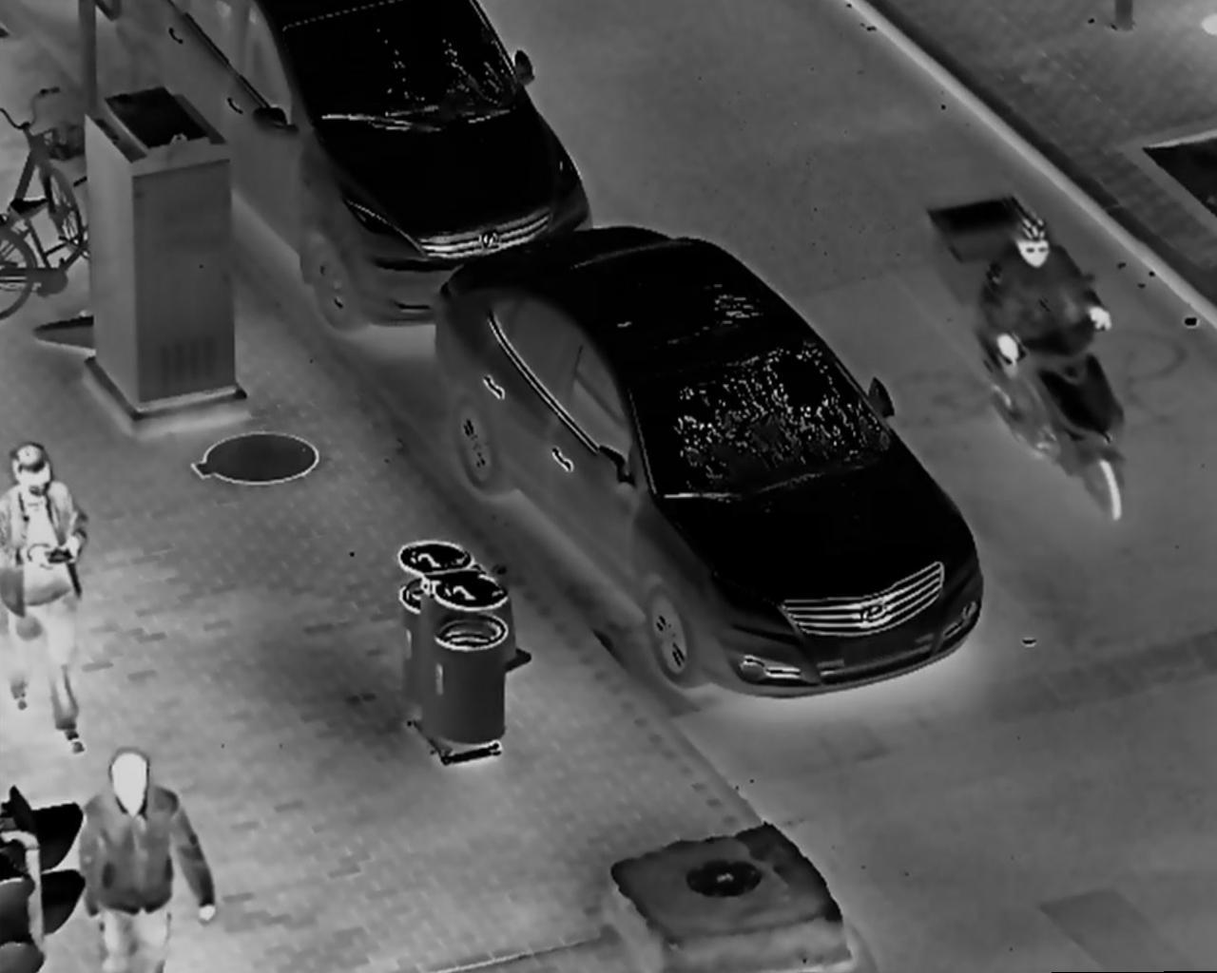person: (75, 746, 227, 973), (976, 214, 1118, 439)
